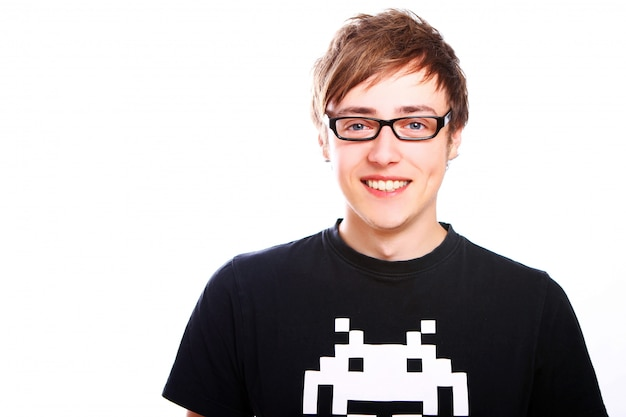teen: (310, 17, 463, 240)
